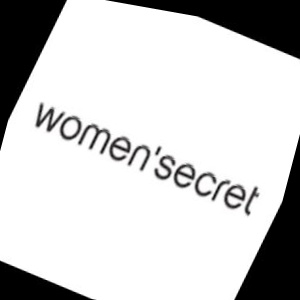women_secret: (262, 84, 300, 185)
